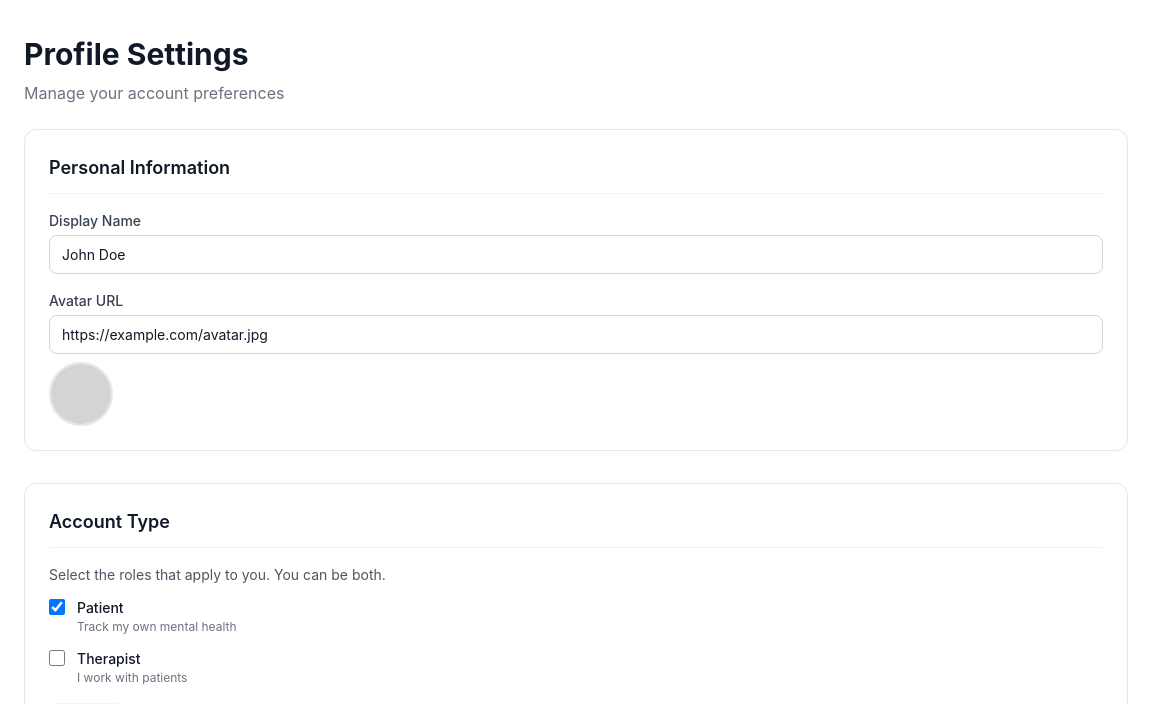
Test case: ProfileView › saves roles successfully
This screenshot has width=1152, height=704.
Click the checkbox labelled "Therapist I work with patients" at (57, 658), box [49,650,65,666]
(page scrolled)
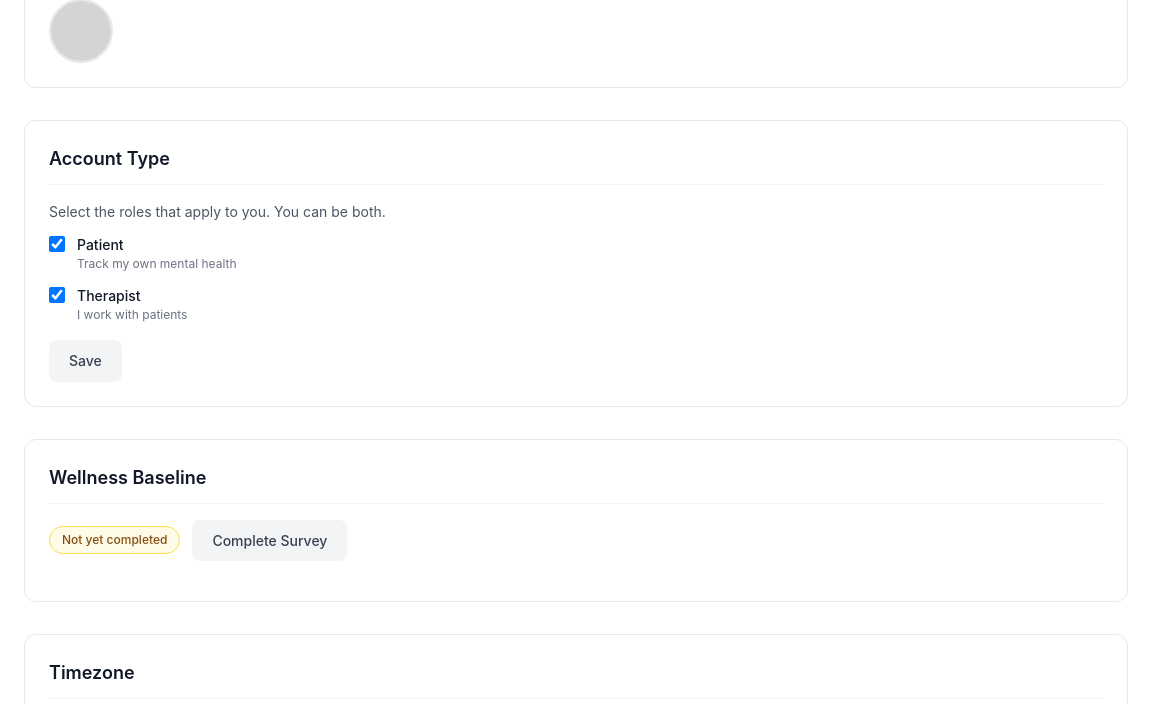
Click the button "Save" at (85, 361), box [49,340,122,382]
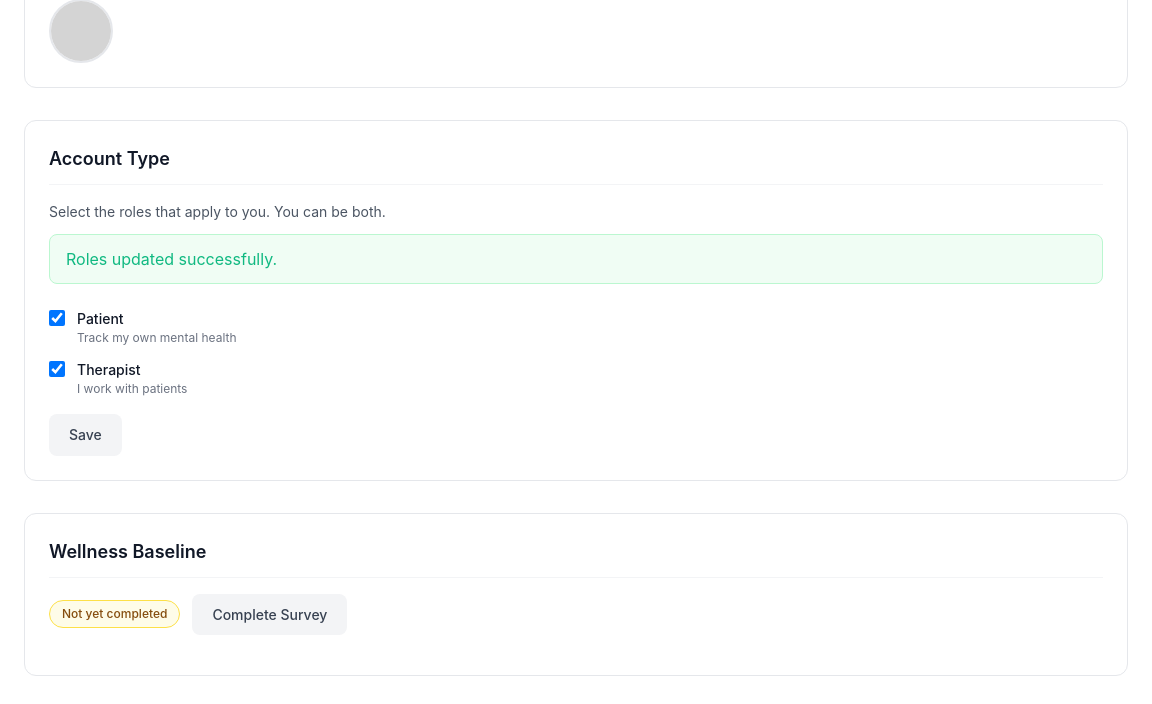
Now the text "Roles updated successfully." is shown, box [66,249,277,269]
